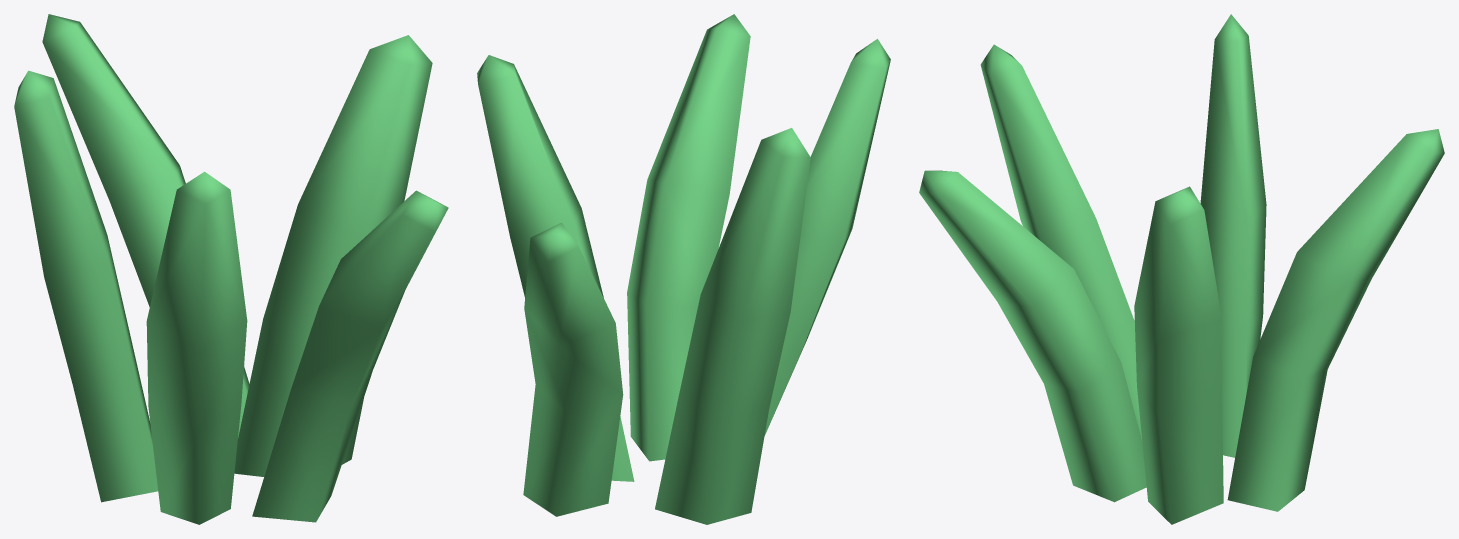
Rendered from Grass_A_05_LOD2.gltf.
3 views of the same model, side by side, from view 1: azimuth 30°, elevation 25°; view 2: azimuth 150°, elevation 25°; view 3: azimuth 270°, elevation 25° (orthographic). The views are drawn at different scales.
Parts seen in each view (by area): view 1: Grass_A_05_LOD2_Cube.719; view 2: Grass_A_05_LOD2_Cube.719; view 3: Grass_A_05_LOD2_Cube.719.
Boxes of the visible parts, box(x1,y1,x2,y2) form: Grass_A_05_LOD2_Cube.719: box(14, 14, 448, 524); Grass_A_05_LOD2_Cube.719: box(477, 14, 890, 524); Grass_A_05_LOD2_Cube.719: box(919, 14, 1444, 524).
Bounding box in the file's own units: 2.93 × 3.15 × 3.89.
Materials: 1 (1 with a texture image).
